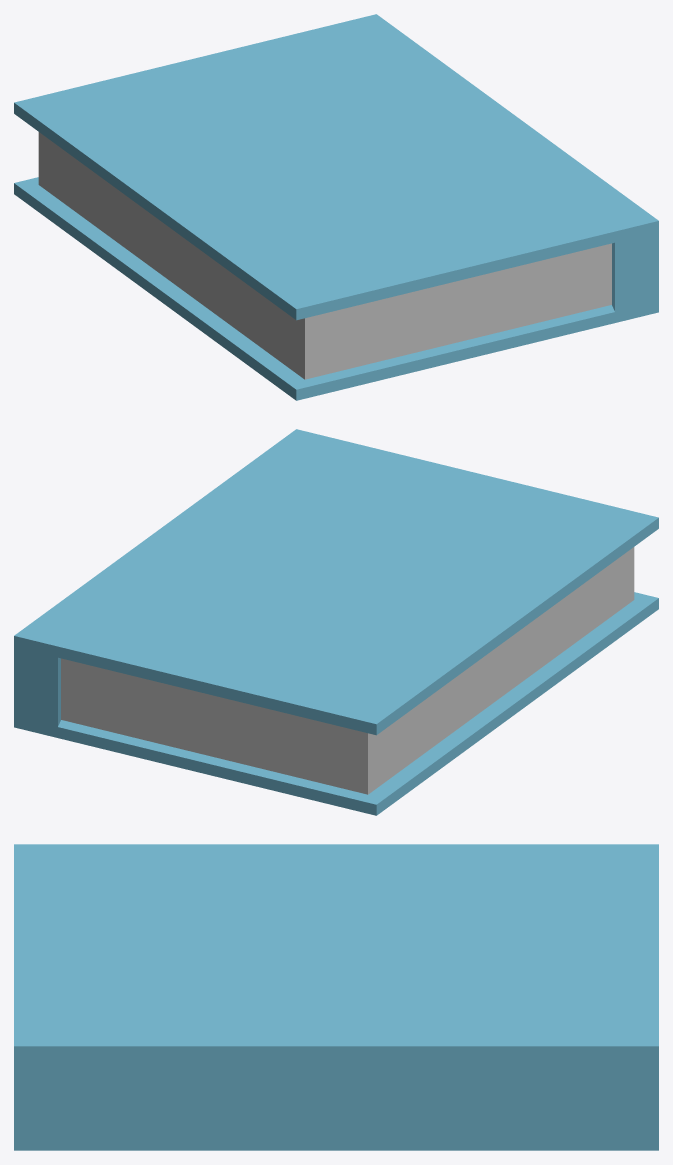
Rendered from book_singular.fbx.
The picture shows the model from 3 angles, top to bottom: view 1: azimuth 30°, elevation 25°; view 2: azimuth 150°, elevation 25°; view 3: azimuth 270°, elevation 25°; orthographic projection. The views are drawn at different scales.
Parts seen in each view (by area): view 1: Cube; view 2: Cube; view 3: Cube.
Boxes of the visible parts, x1,y1,x2,y2 form: Cube: (14,14,658,400); Cube: (14,429,658,815); Cube: (14,844,658,1150).
Size of the model in its own units: 338 by 81.53 by 456.
